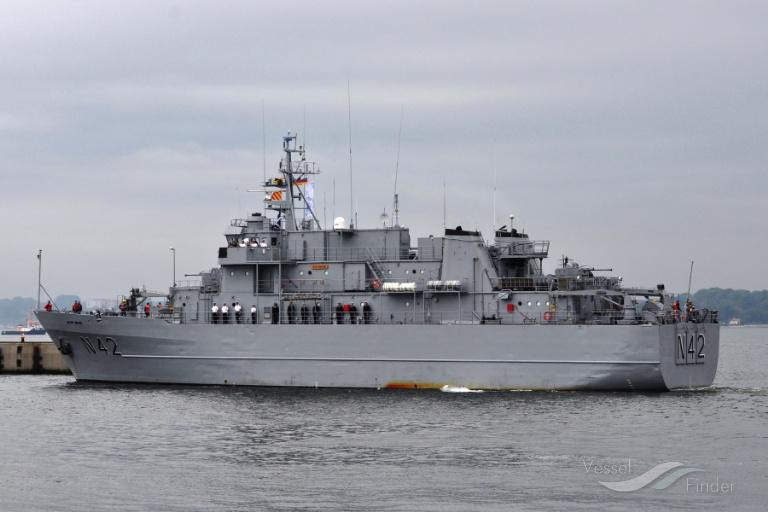OCR: (70, 326, 124, 362), (664, 330, 706, 367)
